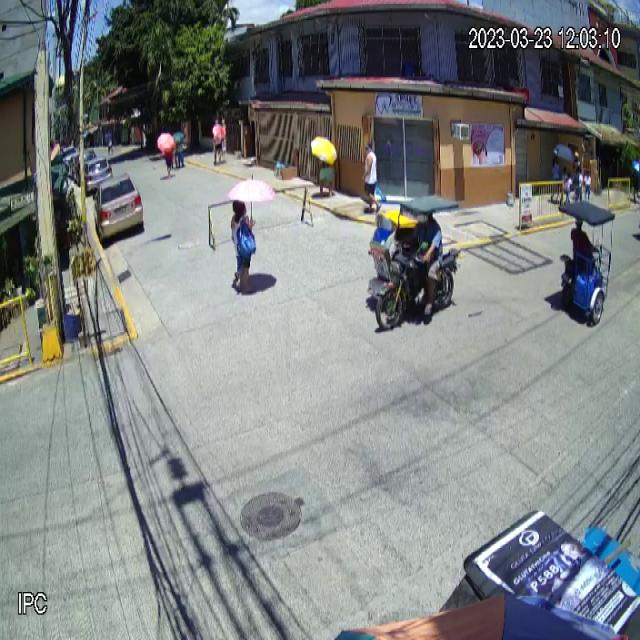Tricycle: (368, 194, 461, 331)
